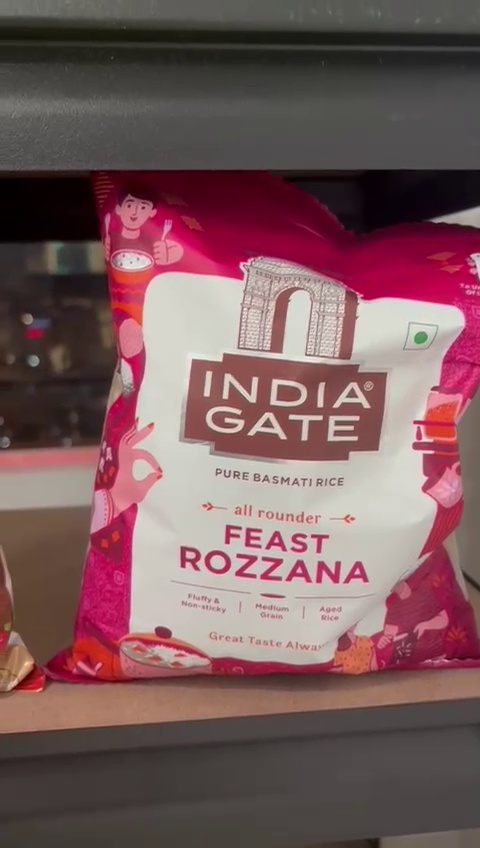India Gate Feast Rozzana: (90, 178, 480, 675)
